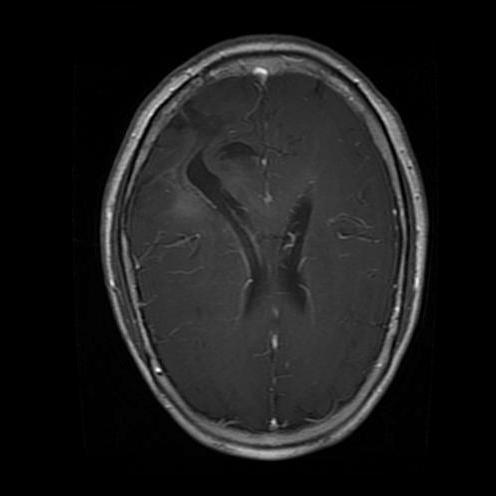Tumour-Glioma: (161, 123, 263, 221)
